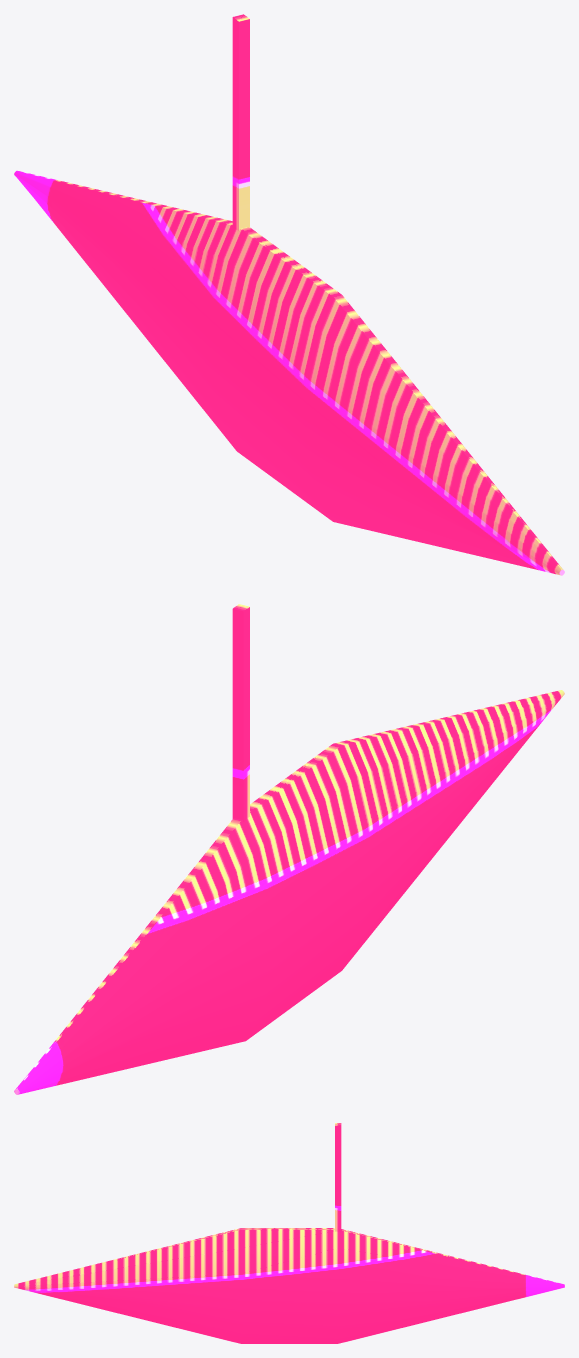
File: POD_R.glb
3 renders of one model, top to bottom at view 1: azimuth 30°, elevation 25°; view 2: azimuth 150°, elevation 25°; view 3: azimuth 270°, elevation 25°, orthographic. The views are drawn at different scales.
Parts seen in each view (by area): view 1: POD_R_03; view 2: POD_R_03; view 3: POD_R_03.
Part boxes in pixels (box(x1,y1,x2,y2)): POD_R_03: box(14, 14, 564, 575); POD_R_03: box(14, 604, 564, 1094); POD_R_03: box(14, 1123, 564, 1343).
Bounding box in the file's own units: 0.2399 × 1.49 × 3.4.
Materials: 1 (1 with a texture image).
